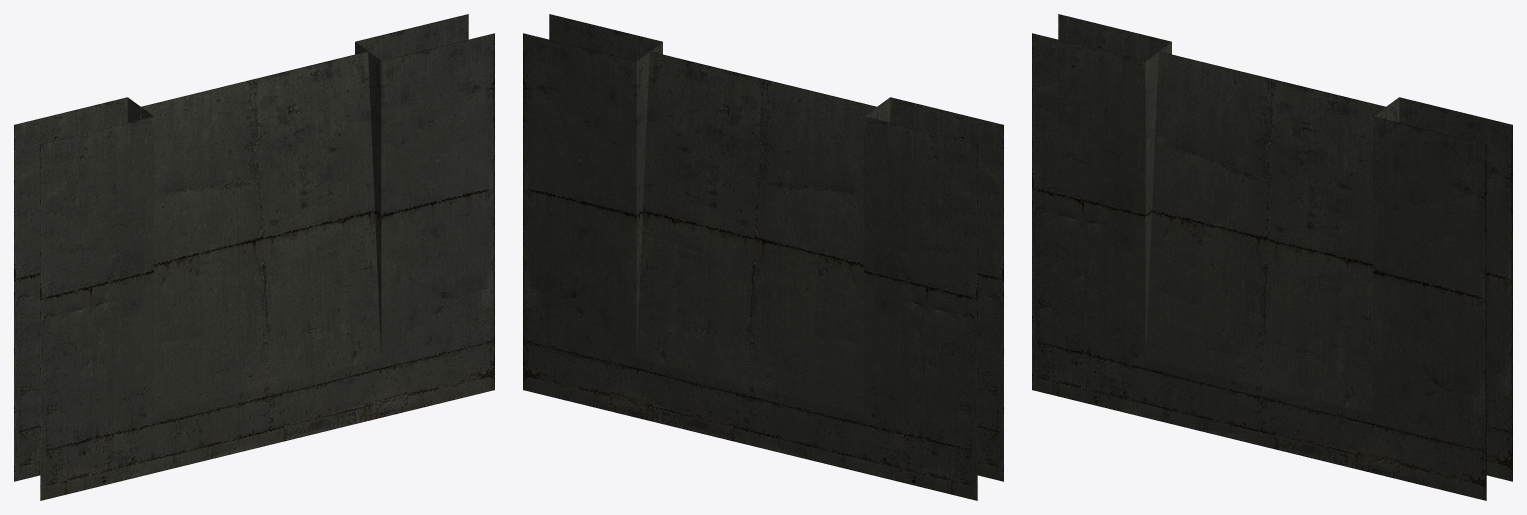
The model's file is wall_rg_1_t_1.glb.
3 renders of one model, left to right at view 1: azimuth 30°, elevation 25°; view 2: azimuth 150°, elevation 25°; view 3: azimuth 330°, elevation 25°, orthographic.
Visible parts, largest first — view 1: wall_rg_1_t_1; view 2: wall_rg_1_t_1; view 3: wall_rg_1_t_1.
Boxes of the visible parts, left/top/right/bottom form: wall_rg_1_t_1: left=14, top=14, right=494, bottom=500; wall_rg_1_t_1: left=523, top=14, right=1003, bottom=500; wall_rg_1_t_1: left=1032, top=14, right=1512, bottom=500.
Size of the model in its own units: 4 by 3 by 0.4.
Materials: 1 (1 with a texture image).
